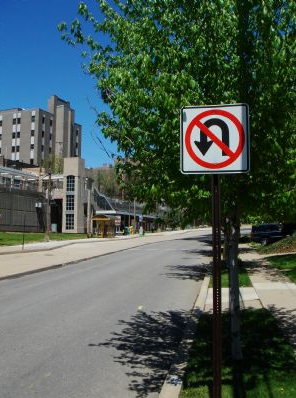No_u_turn: (185, 109, 245, 169)
